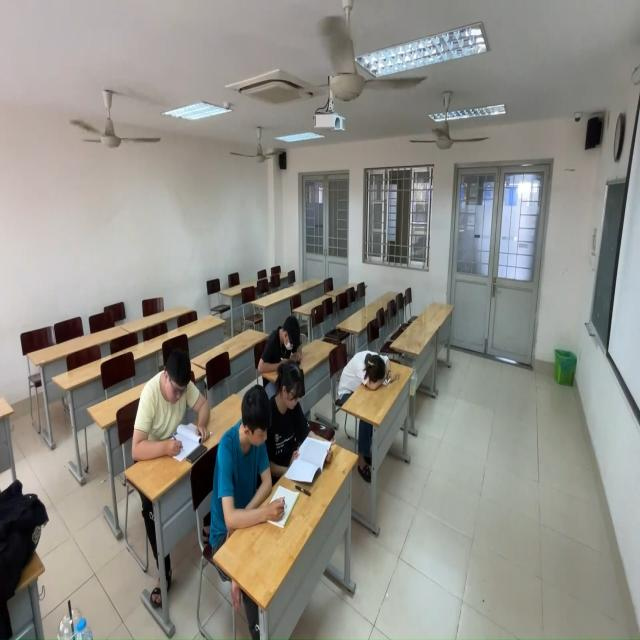read: (211, 387, 289, 532), (135, 338, 208, 476), (270, 357, 333, 484), (263, 304, 302, 380)
sleep: (340, 346, 397, 398)
